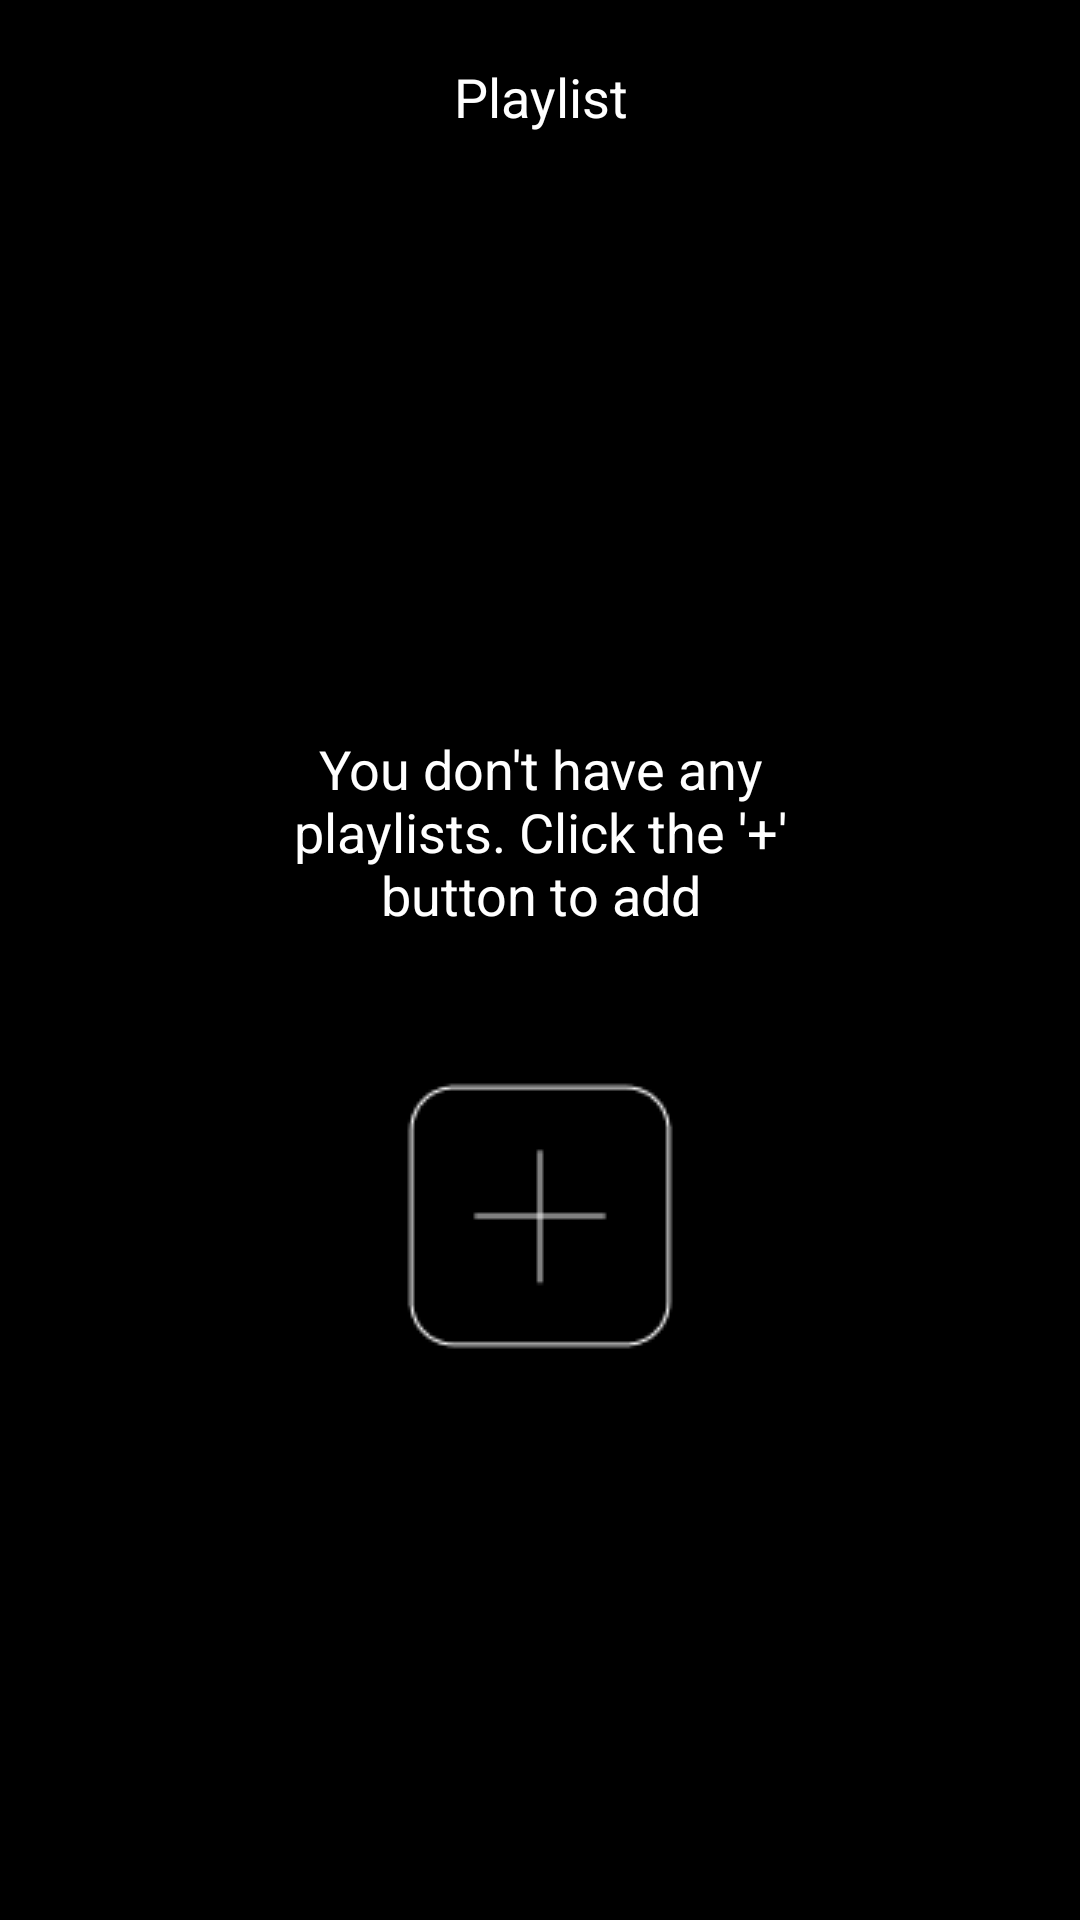

Icon click points for this 1080 × 1920 phone screenshot, format (x=x, y=y):
no playlist add: (x=540, y=1216)
